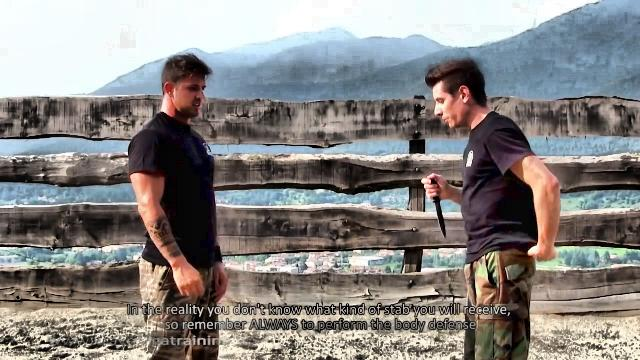knife: (418, 170, 448, 238)
